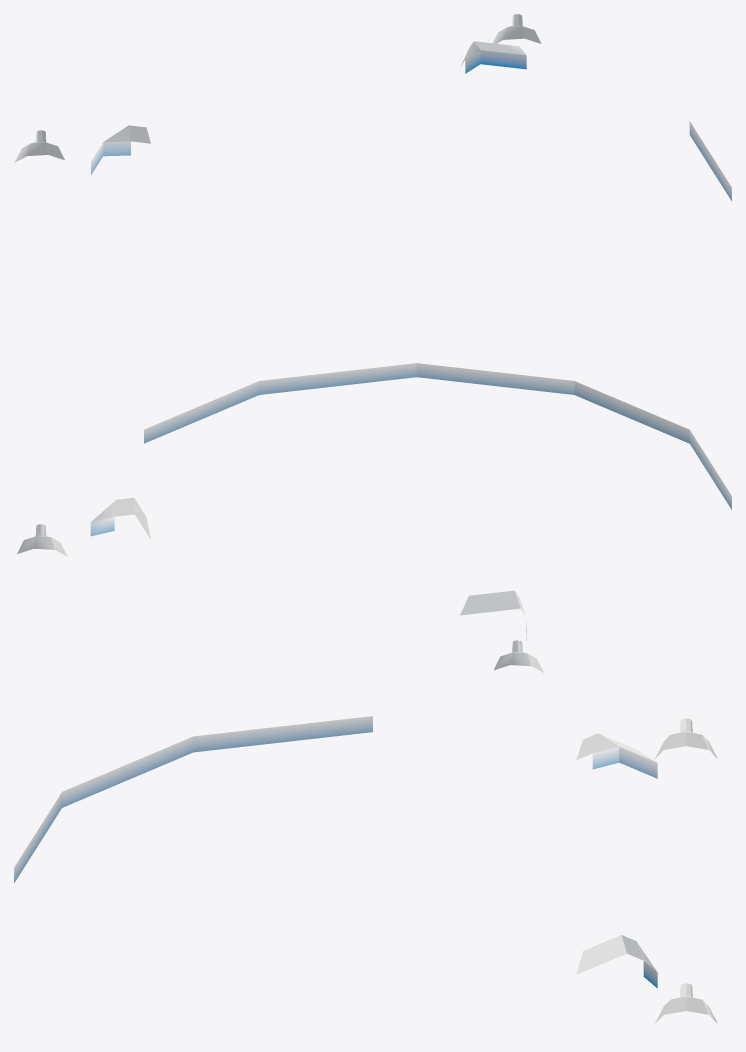
3 views of the same model, one above another, from view 1: azimuth 30°, elevation 25°; view 2: azimuth 150°, elevation 25°; view 3: azimuth 270°, elevation 25° (orthographic). The views are drawn at different scales.
Parts seen in each view (by area): view 1: object0; view 2: object0; view 3: object0.
Boxes of the visible parts, x1=… form: object0: x1=14, y1=14, x2=731, y2=200; object0: x1=17, y1=363, x2=731, y2=672; object0: x1=14, y1=716, x2=717, y2=1023.
Size of the model in its own units: 10368 by 745 by 10368.
